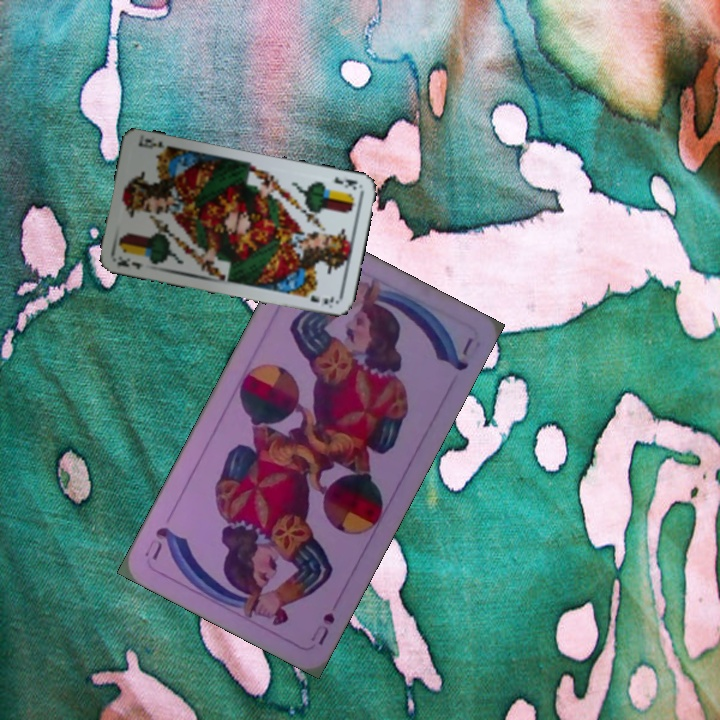EK: (113, 252, 146, 272), (329, 173, 360, 193)
SU: (314, 608, 338, 648)
